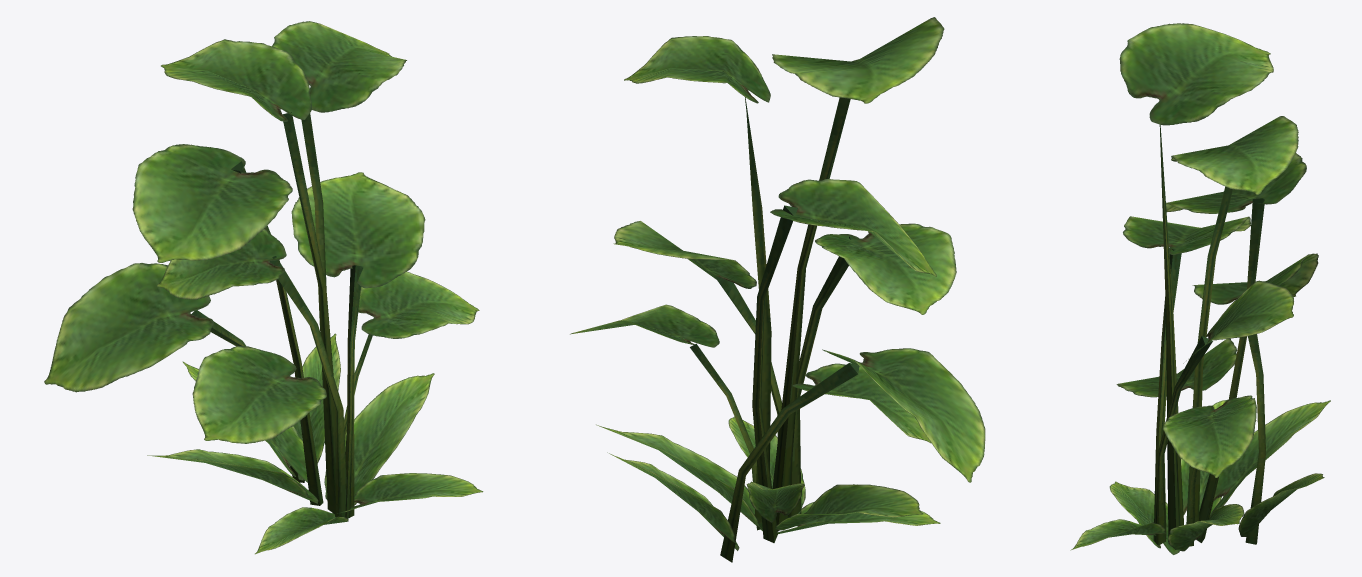
File: SC001Jzhiwu_41.FBX
3 renders of one model, left to right at view 1: azimuth 30°, elevation 25°; view 2: azimuth 150°, elevation 25°; view 3: azimuth 270°, elevation 25°, orthographic. The views are drawn at different scales.
Parts seen in each view (by area): view 1: SC001Jzhiwu_41; view 2: SC001Jzhiwu_41; view 3: SC001Jzhiwu_41.
Boxes of the visible parts, x1,y1,x2,y2 form: SC001Jzhiwu_41: (44,21,483,554); SC001Jzhiwu_41: (570,17,985,562); SC001Jzhiwu_41: (1070,23,1330,554).
Bounding box in the file's own units: 2.15 × 2.44 × 1.38.
